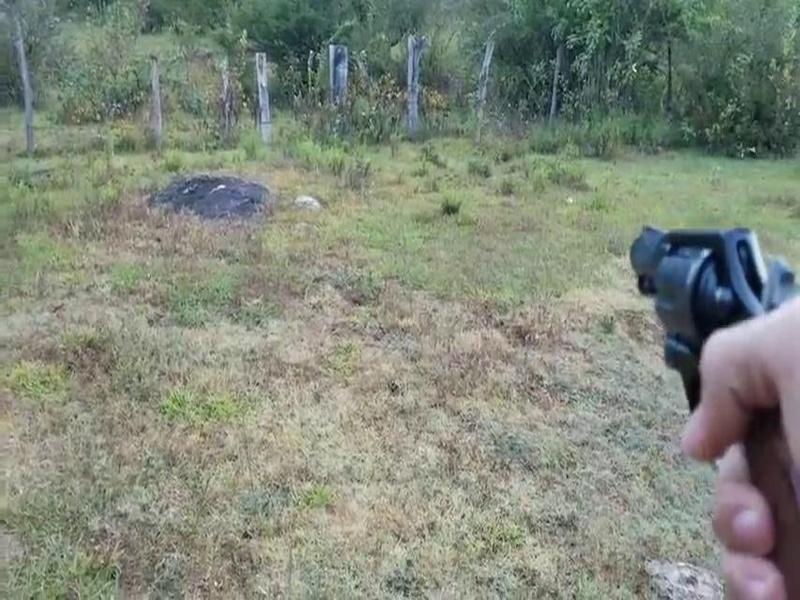Revolver: (584, 185, 800, 448)
